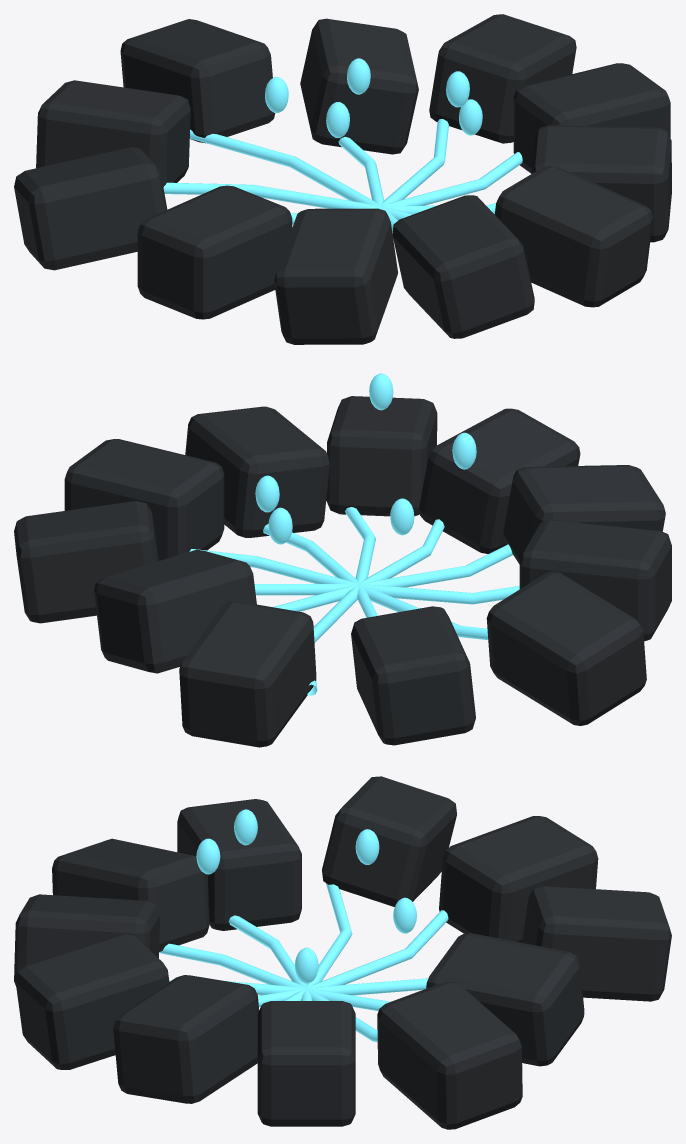
The model's file is soul_fissure.glb.
3 views of the same model, one above another, from view 1: azimuth 30°, elevation 25°; view 2: azimuth 150°, elevation 25°; view 3: azimuth 270°, elevation 25° (orthographic). The views are drawn at different scales.
Parts seen in each view (by area): view 1: soul_fissure; view 2: soul_fissure; view 3: soul_fissure.
Part boxes in pixels (<box>): soul_fissure: <box>14,14,671,344</box>; soul_fissure: <box>14,373,671,747</box>; soul_fissure: <box>14,776,671,1129</box>.
Bounding box in the file's own units: 1.23 × 0.3785 × 1.21.
